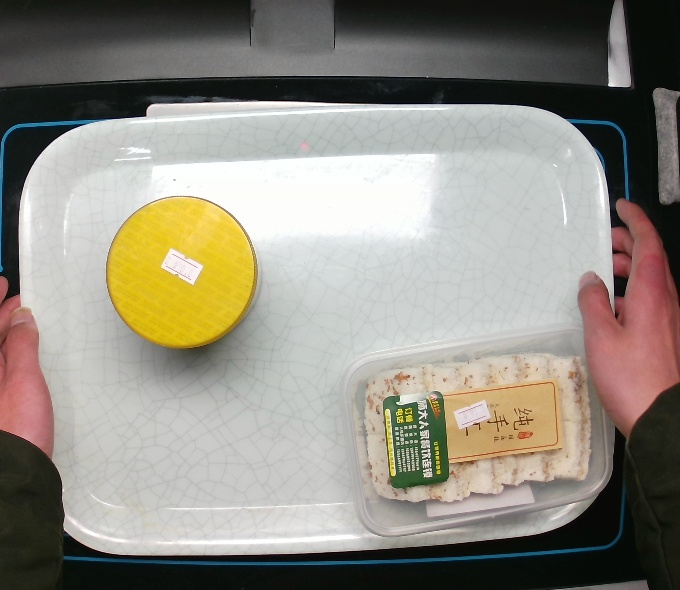wcq-GuiHuaGao: (334, 322, 616, 539)
wcq-MaiYaTang: (104, 194, 259, 351)
